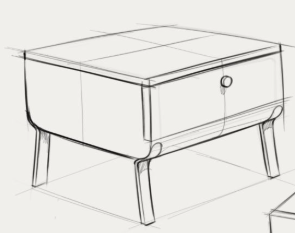table_drawer: (140, 49, 285, 143)
table_legs: (132, 157, 157, 227), (257, 116, 282, 180), (31, 125, 52, 188)
table_support: (22, 56, 285, 162)
table_top: (23, 24, 283, 89)
